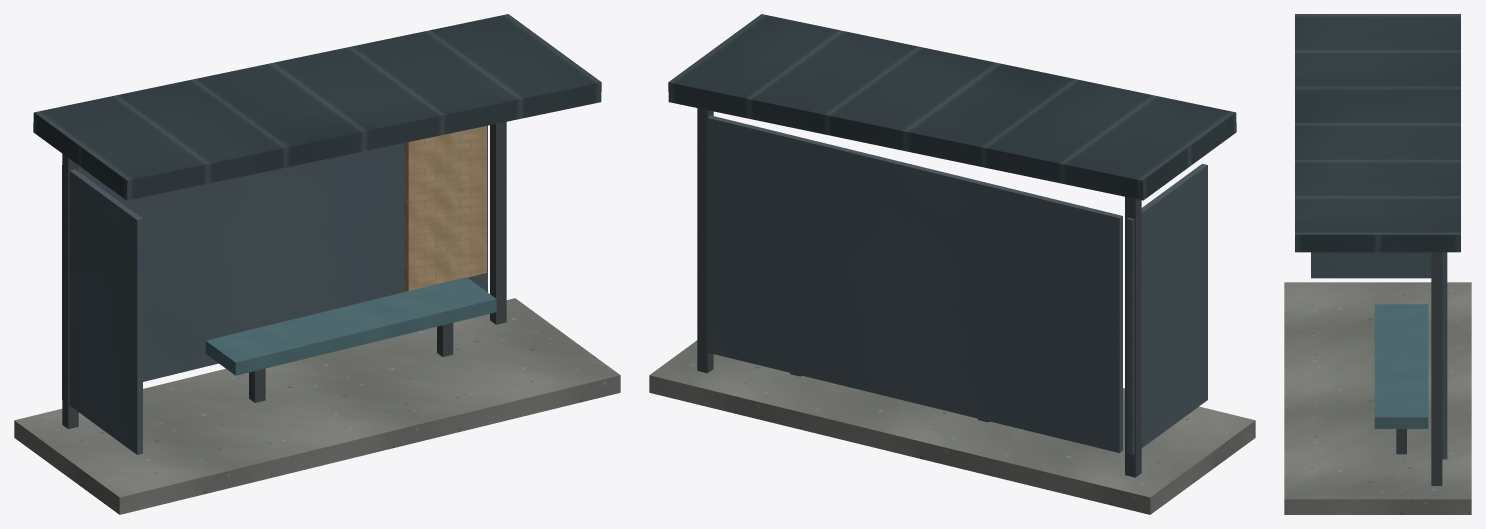
The model's file is street-bus-shelter.lod1.gltf.
3 views of the same model, side by side, from view 1: azimuth 30°, elevation 25°; view 2: azimuth 150°, elevation 25°; view 3: azimuth 270°, elevation 25° (orthographic). The views are drawn at different scales.
Visible parts, largest first — view 1: street-bus-shelter; view 2: street-bus-shelter; view 3: street-bus-shelter.
Boxes of the visible parts, x1=… form: street-bus-shelter: x1=14, y1=14, x2=620, y2=514; street-bus-shelter: x1=649, y1=14, x2=1255, y2=514; street-bus-shelter: x1=1284, y1=14, x2=1471, y2=514.
Bounding box in the file's own units: 4.8 × 2.99 × 1.75.
Materials: 6 (6 with a texture image).
